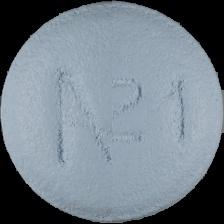0615-7541: (0, 0, 224, 224)
